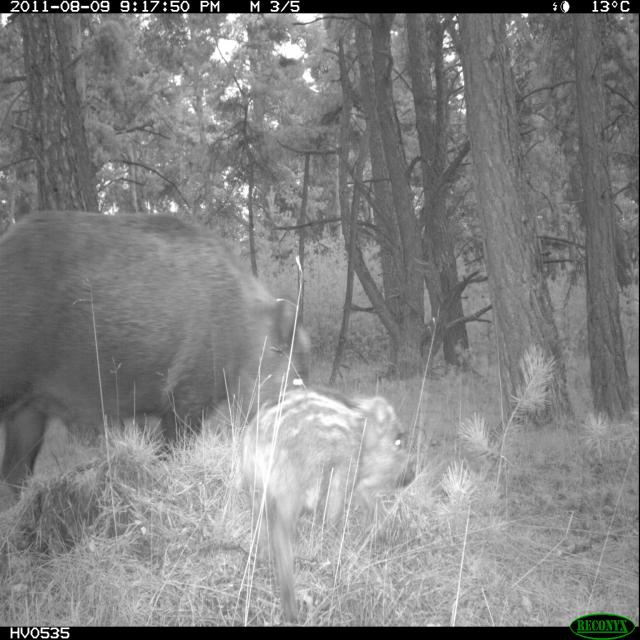boar: (2, 183, 292, 501), (260, 368, 440, 546)
